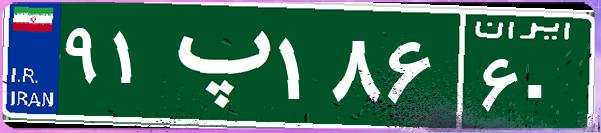0: (525, 38, 570, 115)
1: (273, 28, 330, 110), (110, 28, 158, 105)
6: (385, 28, 445, 110), (475, 38, 525, 113)
8: (330, 28, 385, 110)
9: (57, 26, 110, 107)
پ: (158, 15, 273, 115)
